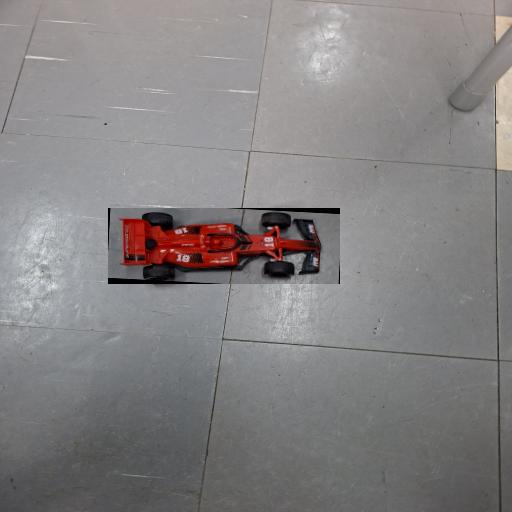carro: (108, 208, 340, 284)
